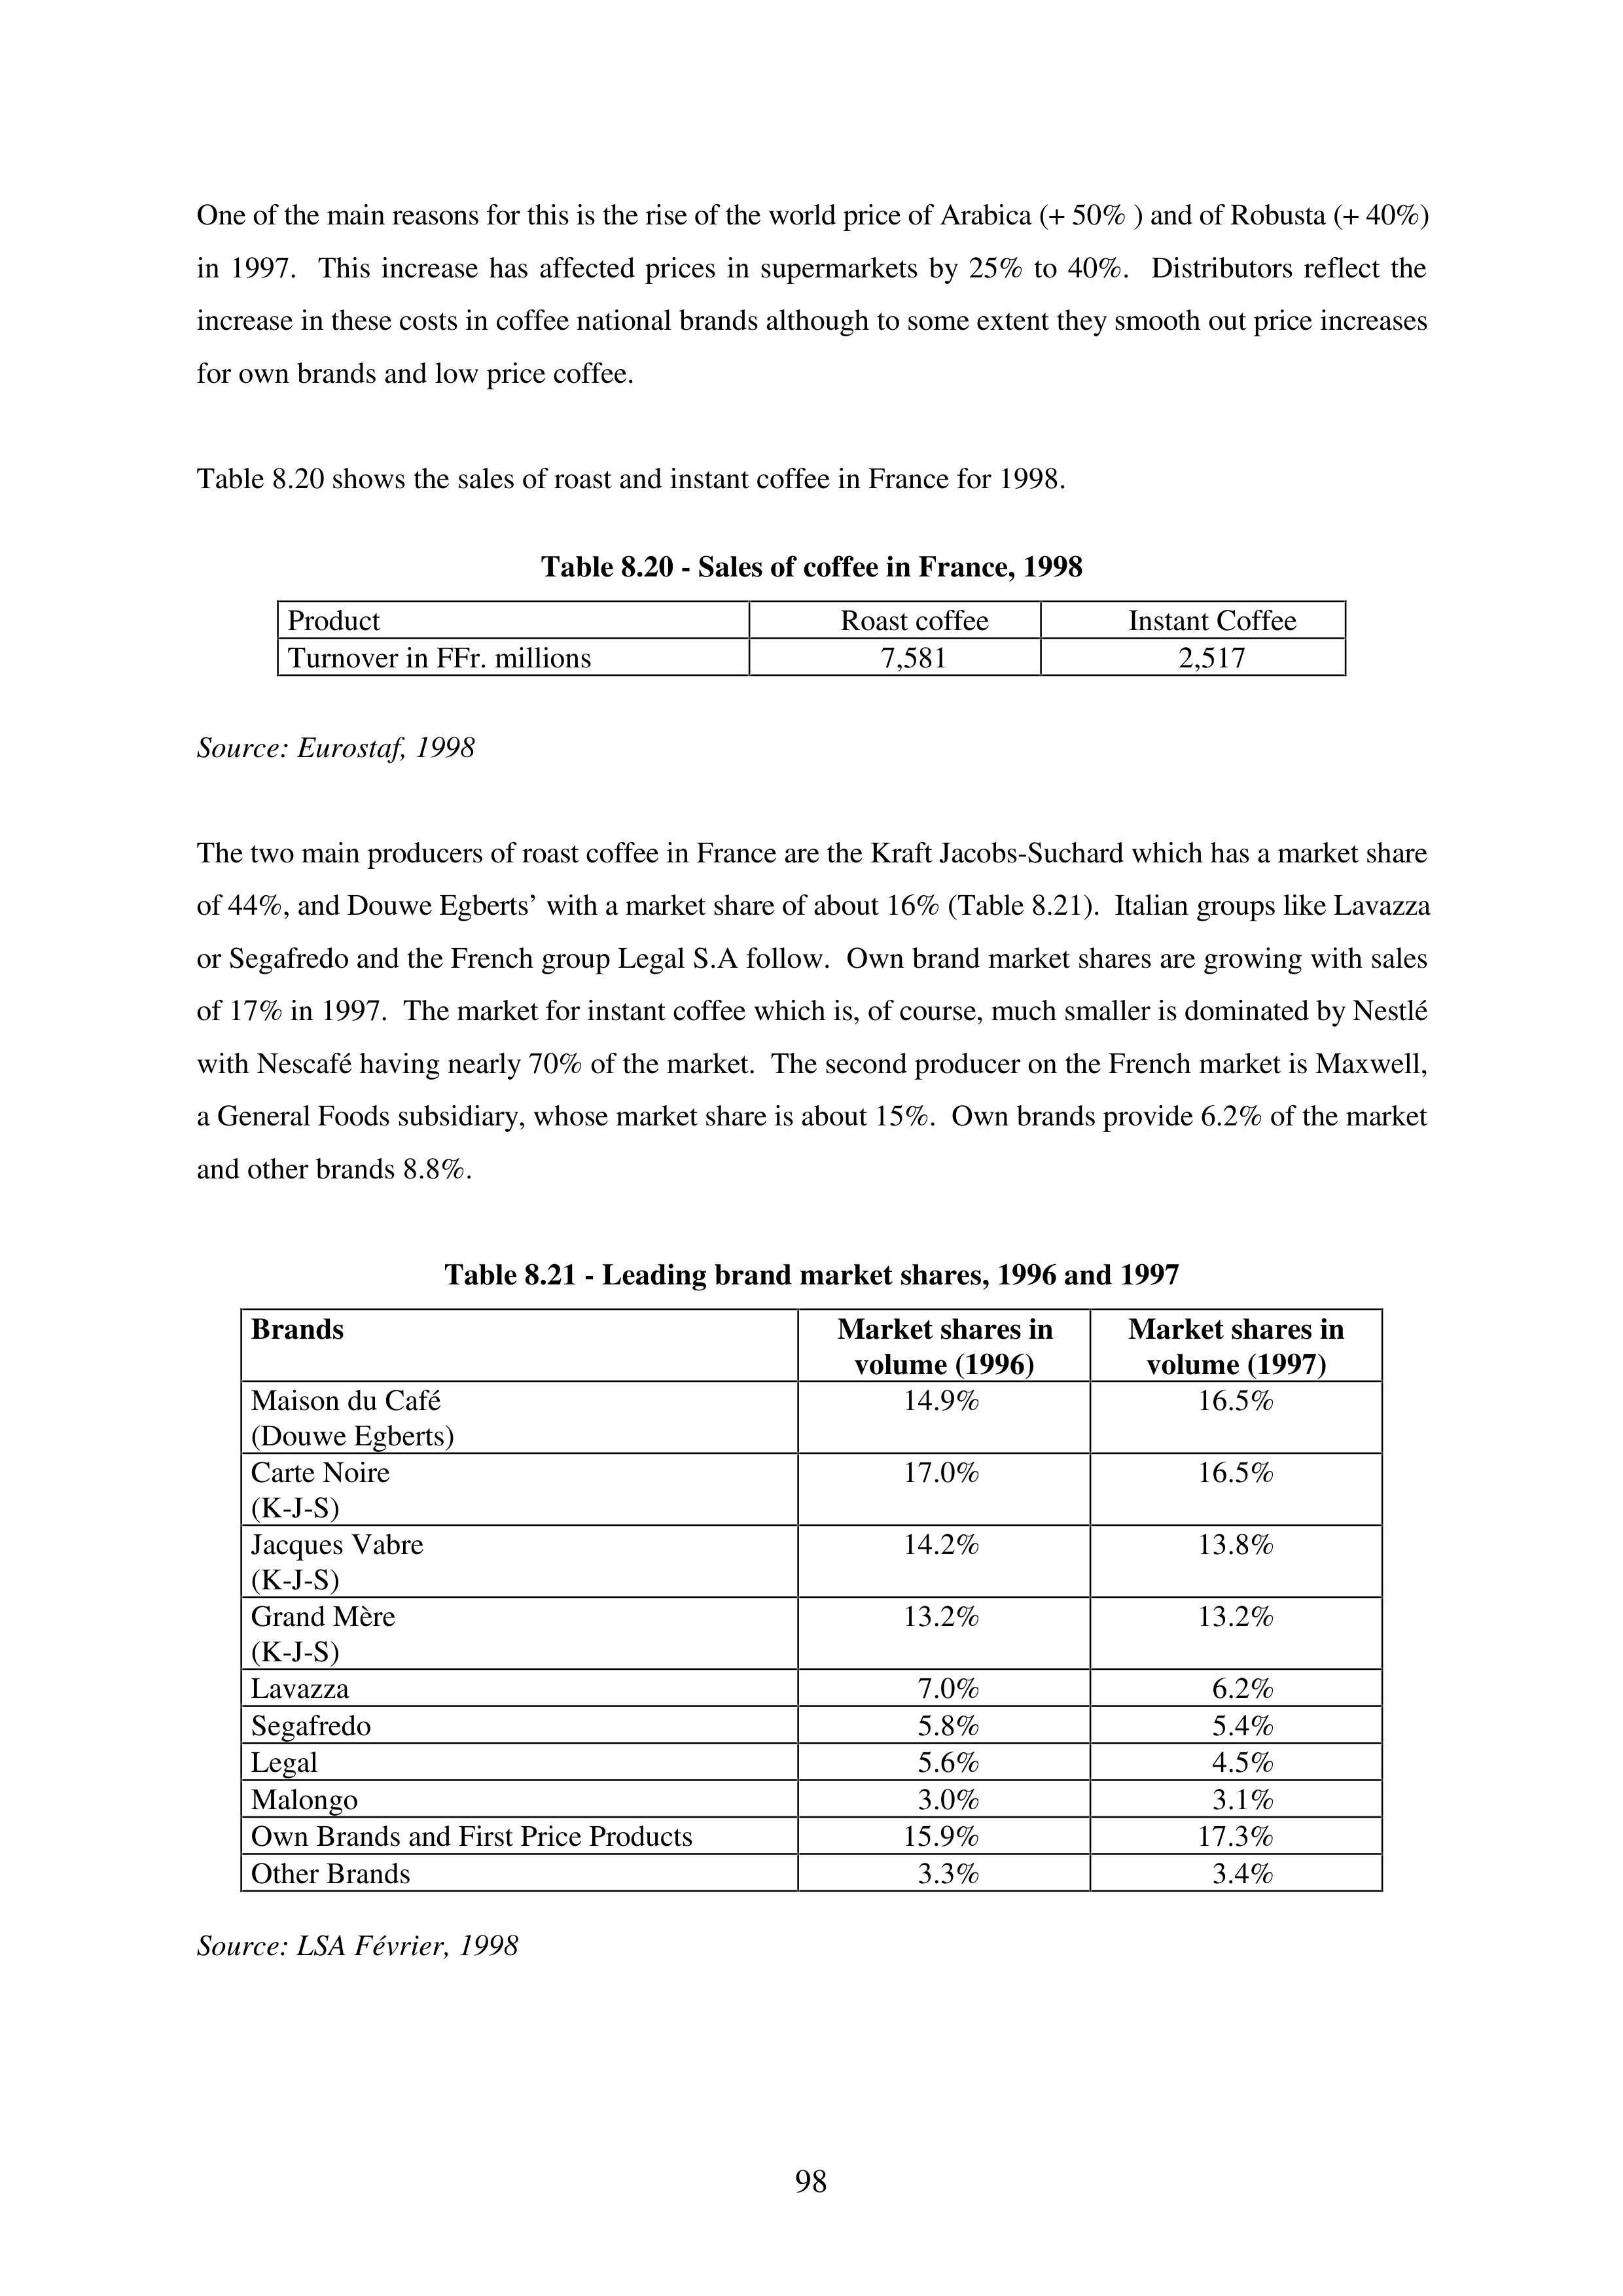table: (251, 1308, 1345, 1892), (288, 599, 1296, 676)
